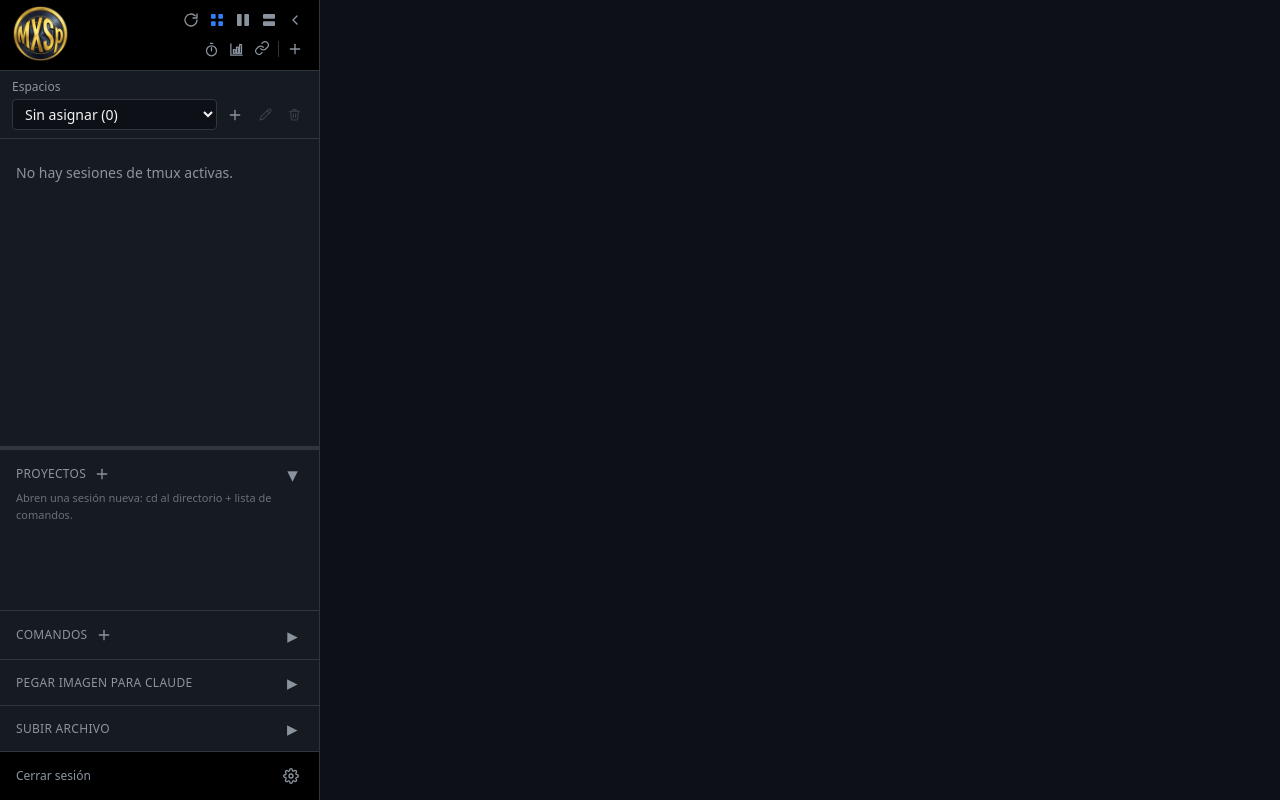
Test: espacio del proyecto › el alta avisa de que se creará un espacio con el nombre del proyecto
This screenshot has width=1280, height=800.
Click the button titled "Nuevo proyecto". click: (102,474)
box: [90,462,114,486]
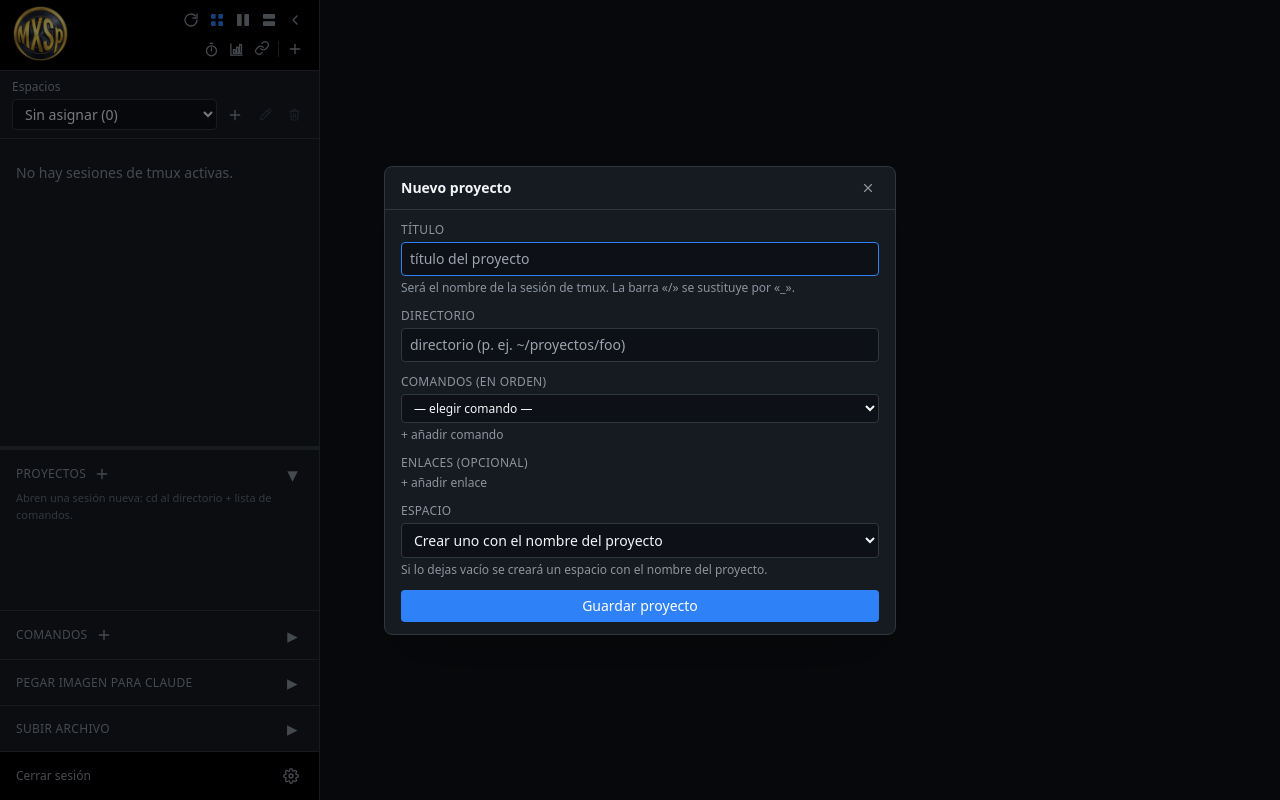
Expected: the text "se creará un espacio con el nombre del proyecto" is shown, [401,560,768,578]
